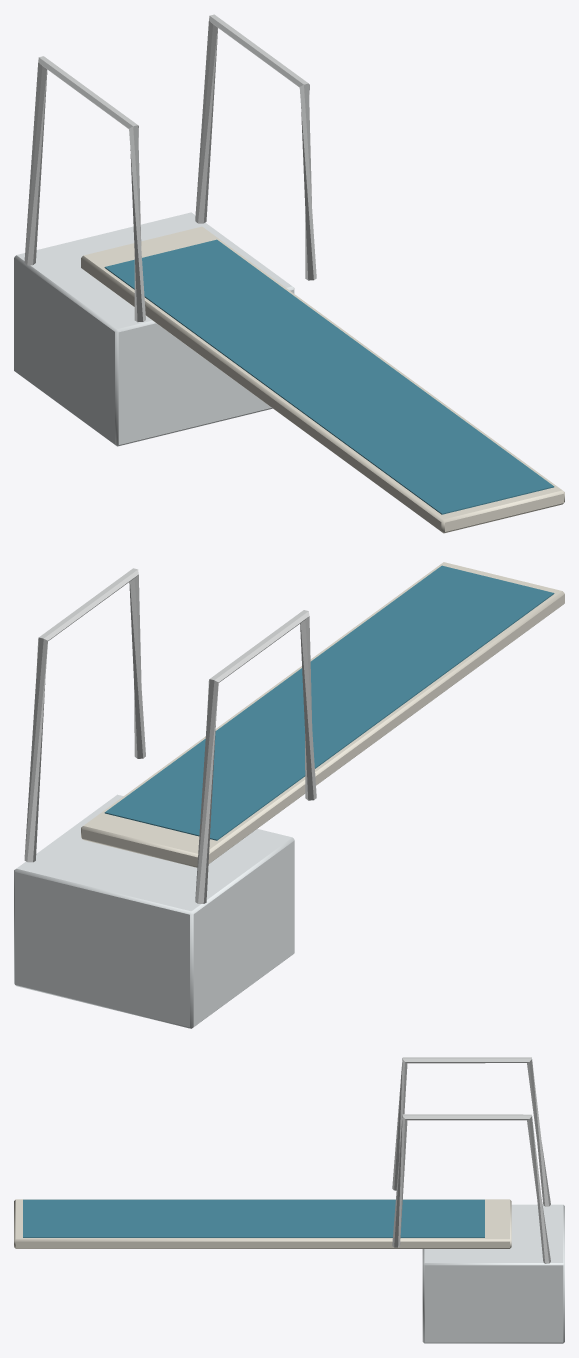
Rendered from diving_board.glb.
The picture shows the model from 3 angles, top to bottom: view 1: azimuth 30°, elevation 25°; view 2: azimuth 150°, elevation 25°; view 3: azimuth 270°, elevation 25°; orthographic projection. The views are drawn at different scales.
Visible parts, largest first — view 1: DivingBoard; view 2: DivingBoard; view 3: DivingBoard.
Part boxes in pixels (left/top/right/bottom): DivingBoard: left=14, top=14, right=564, bottom=533; DivingBoard: left=14, top=562, right=564, bottom=1028; DivingBoard: left=14, top=1057, right=564, bottom=1343.
Size of the model in its own units: 0.804 by 1.41 by 3.1.
